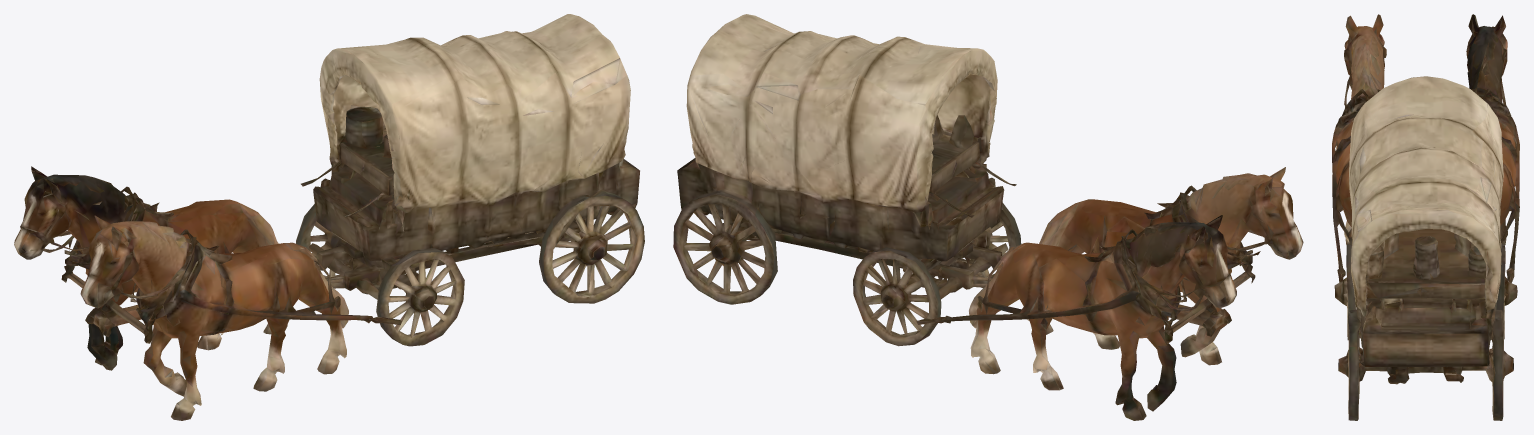
Rendered from wagonhorses.glb.
3 views of the same model, side by side, from view 1: azimuth 30°, elevation 25°; view 2: azimuth 150°, elevation 25°; view 3: azimuth 270°, elevation 25° (orthographic). The views are drawn at different scales.
Visible parts, largest first — view 1: Mesh_0; view 2: Mesh_0; view 3: Mesh_0.
Boxes of the visible parts, left/top/right/bottom form: Mesh_0: left=14, top=14, right=644, bottom=420; Mesh_0: left=673, top=14, right=1303, bottom=420; Mesh_0: left=1332, top=14, right=1519, bottom=420.
Bounding box in the file's own units: 1.91 × 0.9271 × 0.5987.
Materials: 1 (1 with a texture image).
